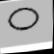no answer: (5, 4, 43, 34)
